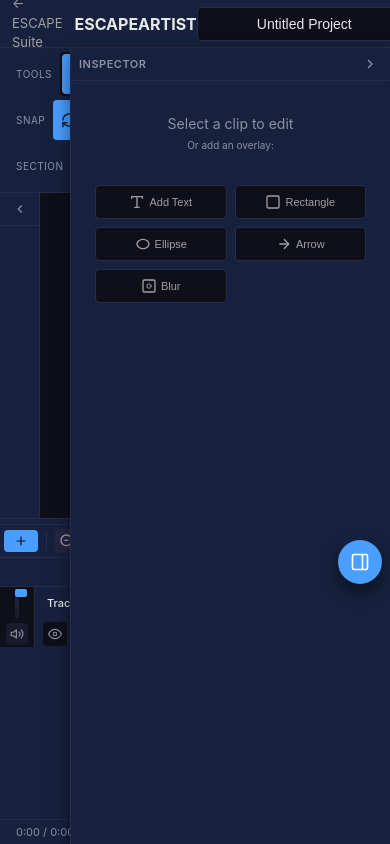
Test: App › mobile inspector toggle › toggles inspector when mobile button clicked
Expected: the text "Select a clip to edit" is shown, [168,113,293,134]
Note: Click mobile toggle
Click the button titled "Toggle inspector" at coordinates (360, 562), box [338,540,382,584]
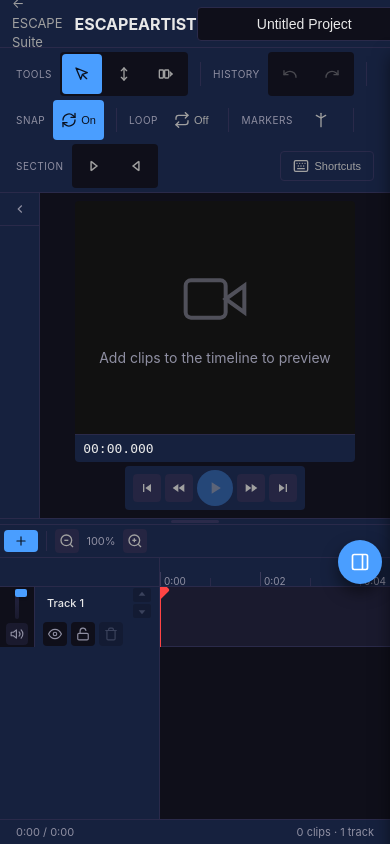
Expected: the text "Select a clip" is gone
